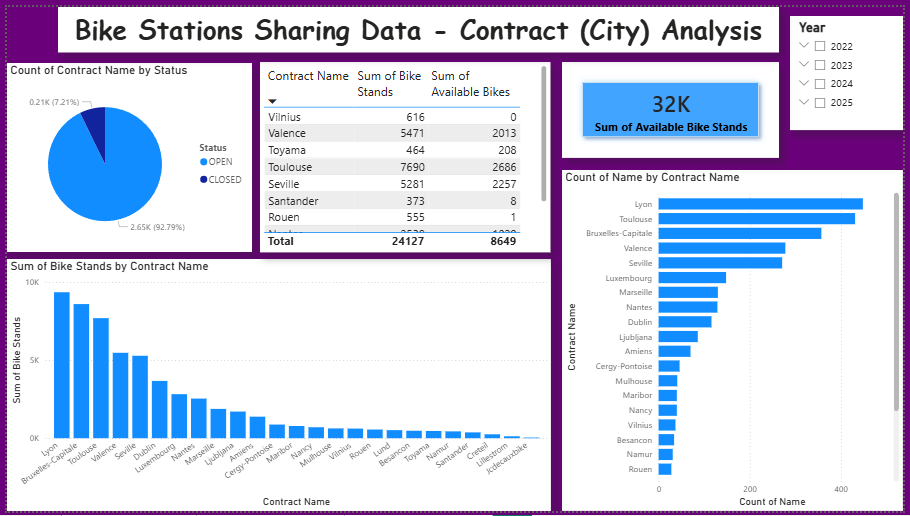

The page's visual inventory and layout, read from the dashboard file:
{"tool":"powerbi","page":{"name":"Contract Analysis","canvas":[1280,720],"ordinal":0},"visuals":[{"type":"pieChart","fields":{"Category":["Feuil1.Status"],"Y":["CountNonNull(Feuil1.Contract Name)"]},"box":[0,80,350,270],"z":0},{"type":"clusteredBarChart","fields":{"Category":["Feuil1.Contract Name"],"Y":["CountNonNull(Feuil1.Name)"]},"box":[793.3,233.3,486.7,486.7],"z":1000},{"type":"columnChart","fields":{"Category":["Feuil1.Contract Name"],"Y":["Sum(Feuil1.Bike Stands)"]},"box":[0,360,776.7,360],"z":2000},{"type":"tableEx","fields":{"Values":["Feuil1.Contract Name","Sum(Feuil1.Bike Stands)","Sum(Feuil1.Available Bikes)"]},"box":[361.7,78.3,415,271.7],"z":3000},{"type":"slicer","fields":{"Values":["Feuil1.Last Update.Variation.Date Hierarchy.Year","Feuil1.Last Update.Variation.Date Hierarchy.Quarter","Feuil1.Last Update.Variation.Date Hierarchy.Month","Feuil1.Last Update.Variation.Date Hierarchy.Day"]},"box":[1118.3,13.3,161.7,163.3],"z":4000},{"type":"cardVisual","fields":{"Data":["Sum(Feuil1.Available Bike Stands)"]},"box":[793.3,78.3,310,136.7],"z":4001},{"type":"textbox","box":[73.3,0,1030,65],"z":4002}]}

Visuals, with their boxes in screenshot pixels (x1, y1, x2, y2), scaled from the page's 1280x720 canvas onto the 910x516 screenshot:
pieChart - Feuil1.Status x CountNonNull(Feuil1.Contract Name): [left=0, top=57, right=249, bottom=251]
clusteredBarChart - Feuil1.Contract Name x CountNonNull(Feuil1.Name): [left=564, top=167, right=909, bottom=515]
columnChart - Feuil1.Contract Name x Sum(Feuil1.Bike Stands): [left=0, top=258, right=552, bottom=515]
tableEx - Feuil1.Contract Name x Sum(Feuil1.Bike Stands): [left=257, top=56, right=552, bottom=251]
slicer - Feuil1.Last Update.Variation.Date Hierarchy.Year x Feuil1.Last Update.Variation.Date Hierarchy.Quarter: [left=795, top=10, right=909, bottom=127]
cardVisual - Sum(Feuil1.Available Bike Stands): [left=564, top=56, right=784, bottom=154]
textbox: [left=52, top=0, right=784, bottom=47]
